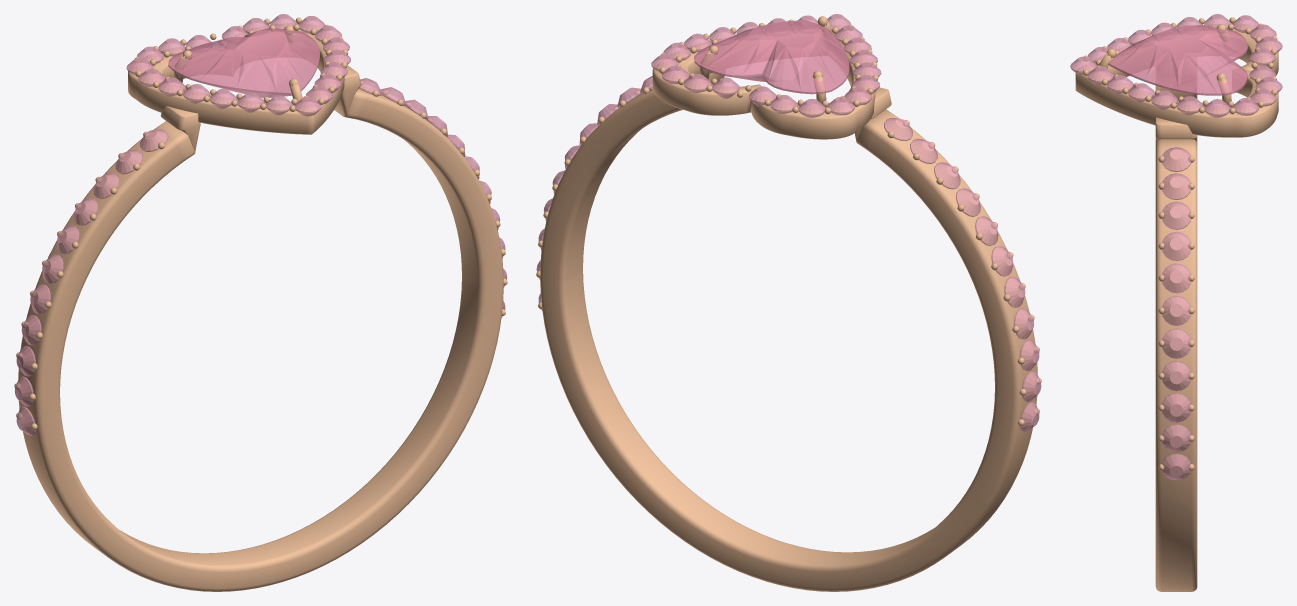
The model's file is J003-display-v05.glb.
The picture shows the model from 3 angles, left to right: view 1: azimuth 30°, elevation 25°; view 2: azimuth 150°, elevation 25°; view 3: azimuth 270°, elevation 25°; orthographic projection. The views are drawn at different scales.
Parts seen in each view (by area): view 1: J003_Metal, J003_AccentStones, J003_MainStone; view 2: J003_Metal, J003_AccentStones, J003_MainStone; view 3: J003_Metal, J003_AccentStones, J003_MainStone.
Boxes of the visible parts, x1,y1,x2,y2 form: J003_Metal: [14, 17, 507, 591]; J003_AccentStones: [15, 14, 507, 435]; J003_MainStone: [168, 28, 319, 98]; J003_Metal: [536, 16, 1041, 591]; J003_AccentStones: [536, 14, 1041, 432]; J003_MainStone: [694, 20, 849, 94]; J003_Metal: [1075, 17, 1278, 591]; J003_AccentStones: [1070, 14, 1282, 480]; J003_MainStone: [1108, 25, 1247, 95].
Bounding box in the file's own units: 0.0185 × 0.0195 × 0.00711.
